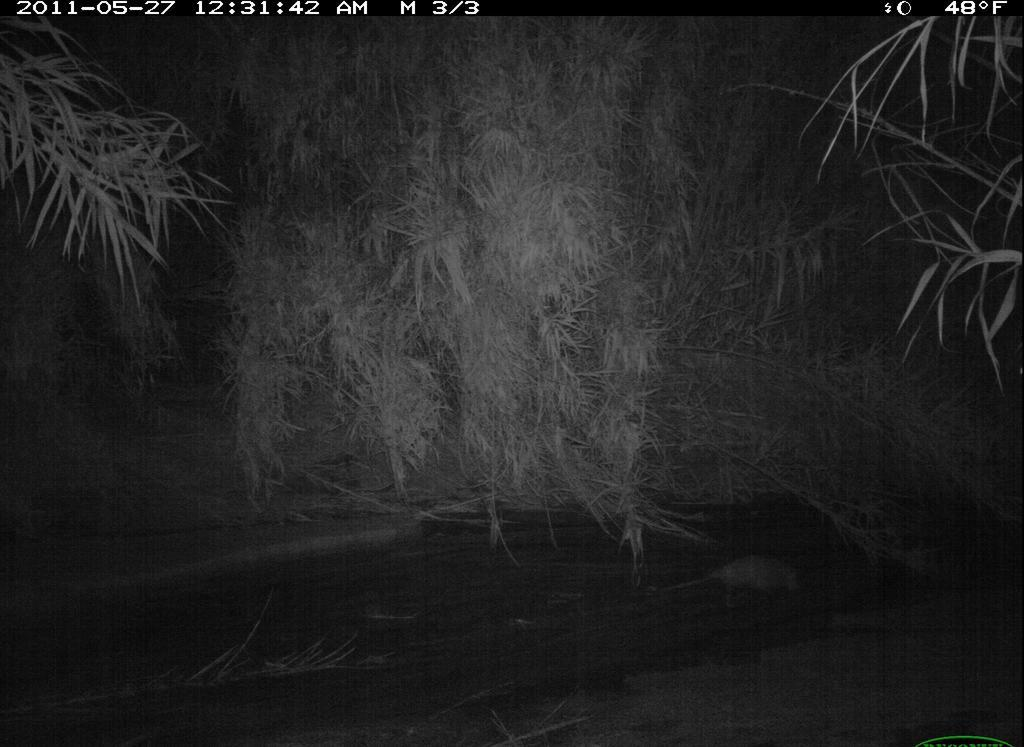opossum: (658, 545, 825, 614)
